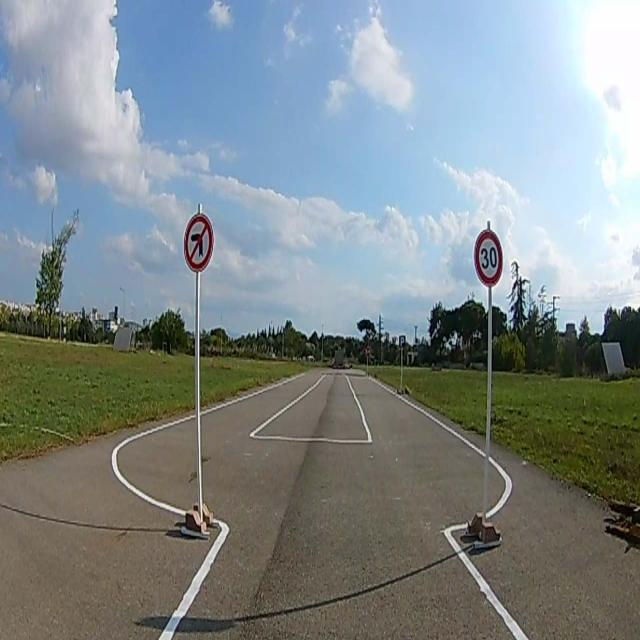30: (475, 233, 503, 283)
soladonulmez: (183, 214, 213, 270)
